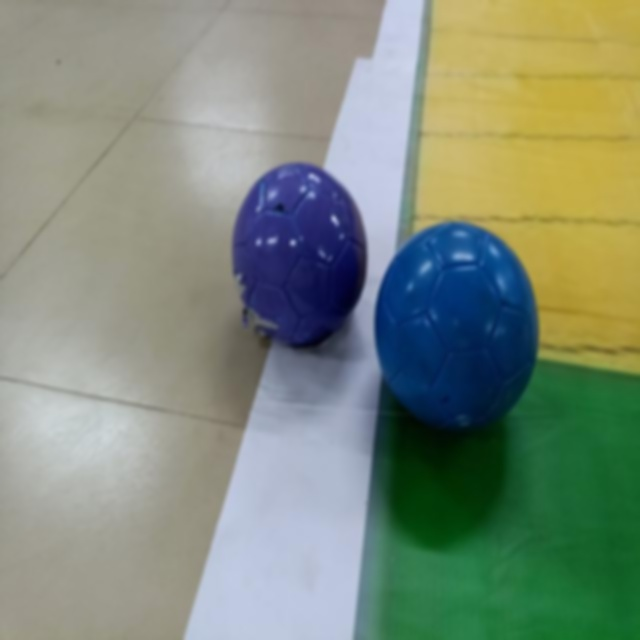blue_ball: (375, 225, 529, 429)
purple_ball: (241, 168, 354, 334)
